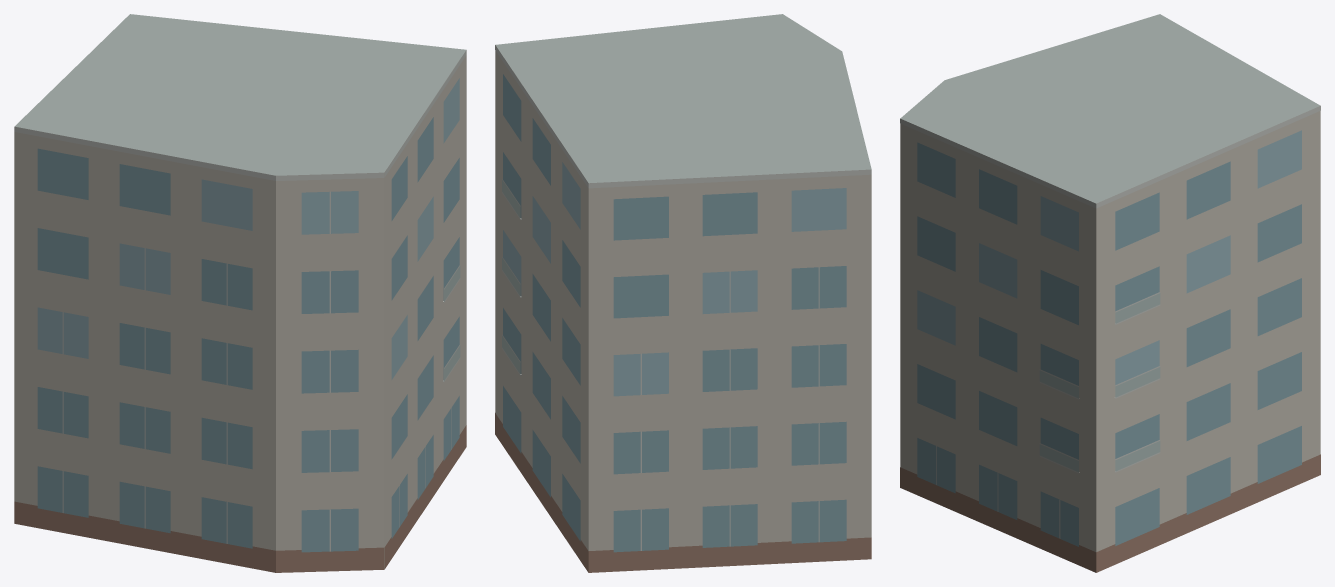
Rendered from survey-upis-32945511.glb.
The picture shows the model from 3 angles, left to right: view 1: azimuth 30°, elevation 25°; view 2: azimuth 150°, elevation 25°; view 3: azimuth 270°, elevation 25°; orthographic projection. The views are drawn at different scales.
Parts seen in each view (by area): view 1: survey-upis-32945511.tmp; view 2: survey-upis-32945511.tmp; view 3: survey-upis-32945511.tmp.
Part boxes in pixels (x1,y1,x2,y2): survey-upis-32945511.tmp: (14, 14, 466, 572); survey-upis-32945511.tmp: (495, 14, 871, 572); survey-upis-32945511.tmp: (900, 14, 1320, 572).
Size of the model in its own units: 20.1 by 18.25 by 18.84.
